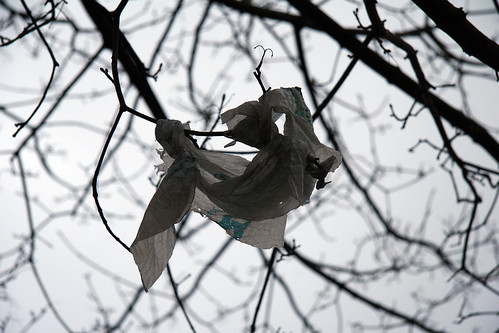plastic bag: (130, 87, 342, 293)
